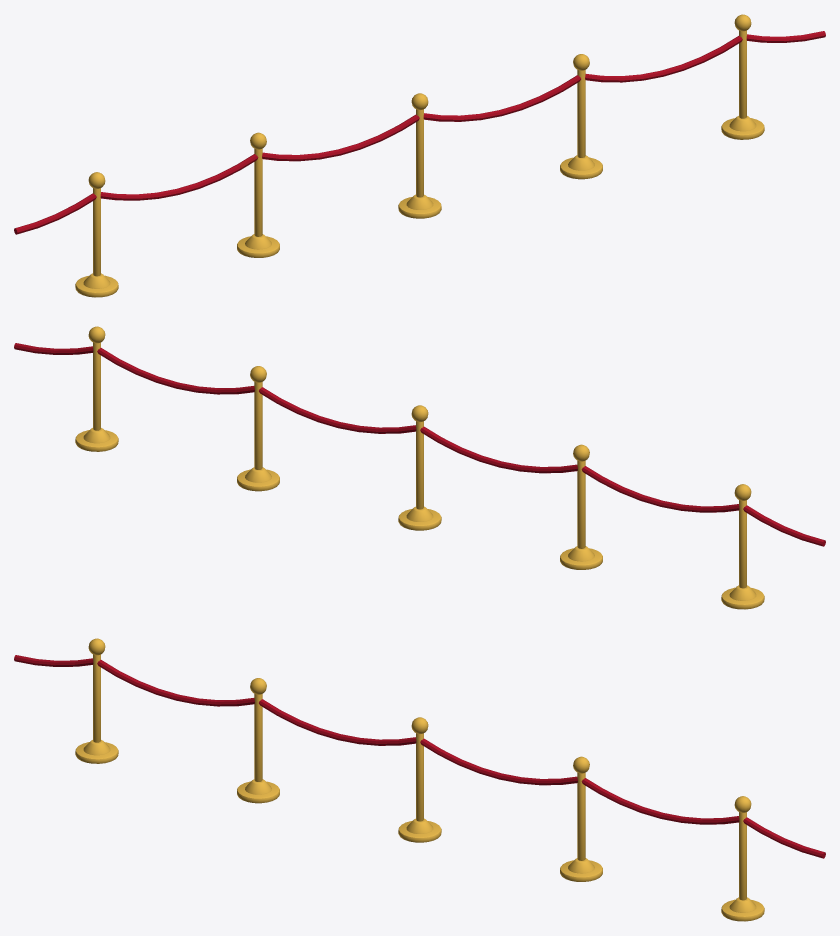
Rendered from Fence.fbx.
3 renders of one model, top to bottom at view 1: azimuth 30°, elevation 25°; view 2: azimuth 150°, elevation 25°; view 3: azimuth 330°, elevation 25°, orthographic.
Visible parts, largest first — view 1: Fence; view 2: Fence; view 3: Fence.
Boxes of the visible parts, left/top/right/bottom form: Fence: left=14, top=14, right=825, bottom=297; Fence: left=14, top=326, right=825, bottom=609; Fence: left=14, top=638, right=825, bottom=921.
Size of the model in its own units: 3005 by 413 by 140.
